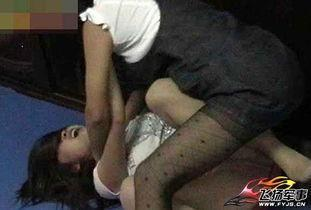Fall-Detected: (43, 0, 298, 210)
